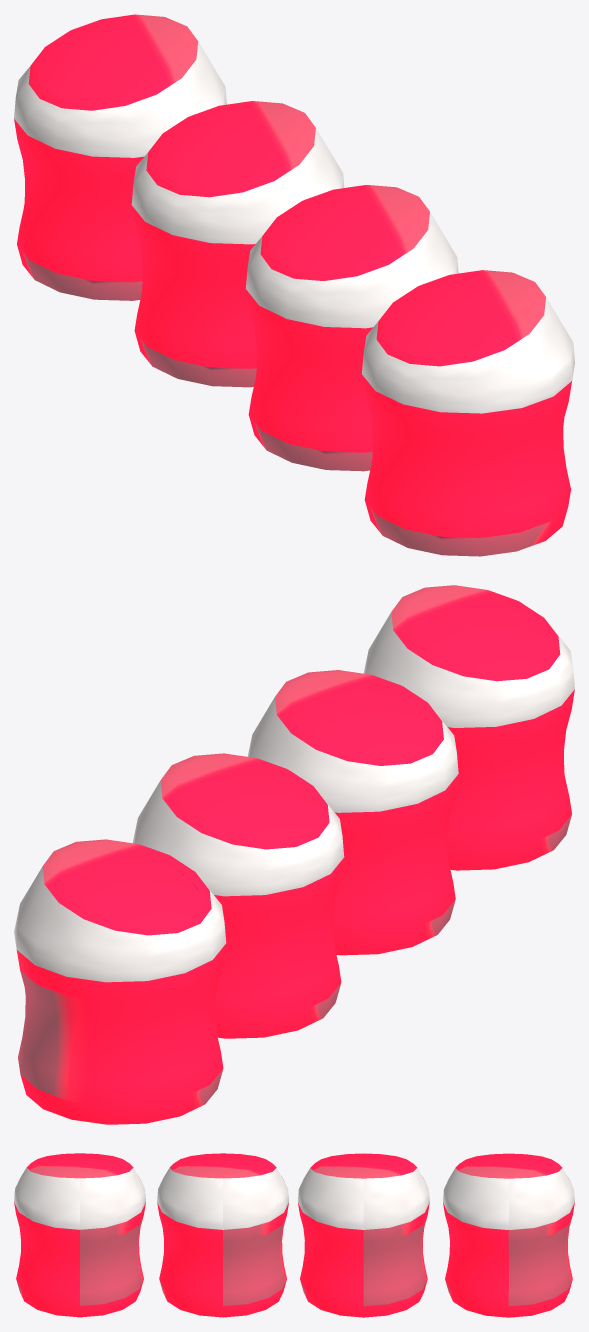
The model's file is Skittles.fbx.
3 views of the same model, one above another, from view 1: azimuth 30°, elevation 25°; view 2: azimuth 150°, elevation 25°; view 3: azimuth 270°, elevation 25° (orthographic). The views are drawn at different scales.
Parts seen in each view (by area): view 1: Skittles3; view 2: Skittles3; view 3: Skittles3.
Part boxes in pixels (x1=…): Skittles3: x1=14, y1=14, x2=574, y2=556; Skittles3: x1=14, y1=585, x2=574, y2=1124; Skittles3: x1=14, y1=1153, x2=574, y2=1317.
Bounding box in the file's own units: 11.04 × 12.46 × 46.6.
